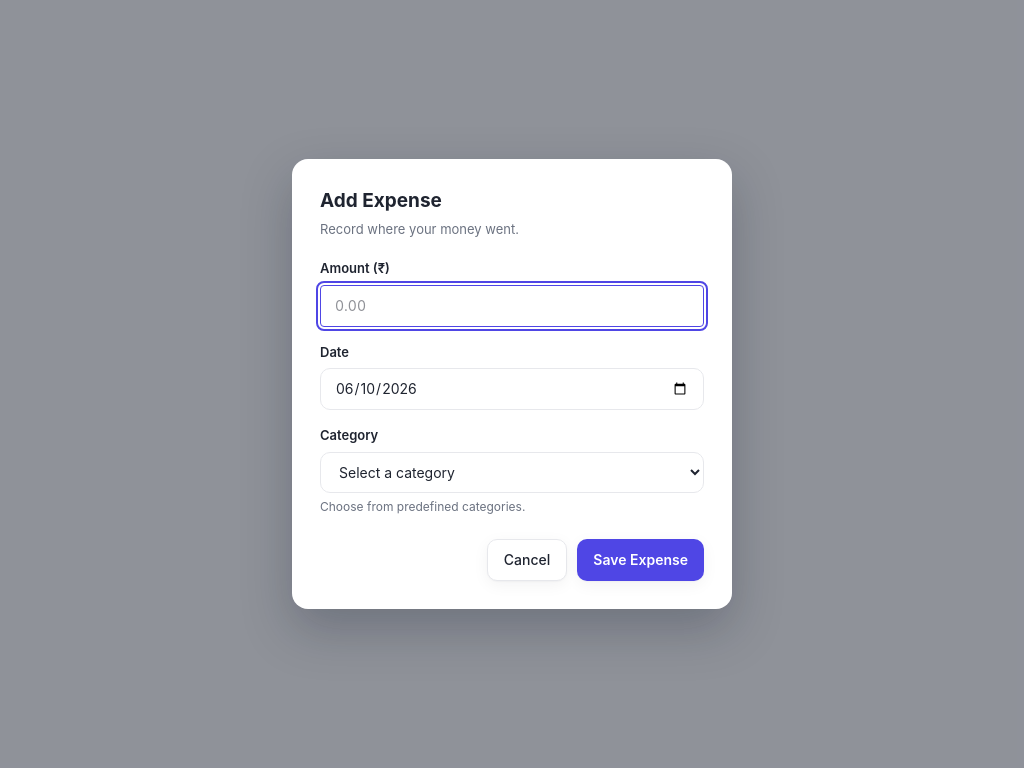
Scenario: ExpenseModal (P7-2) › rejects an amount with more than two decimals
The width and height of the screenshot is (1024, 768).
In the field labelled "Amount (₹)": (512, 306) 320,285 -> 704,327, type "12.345"
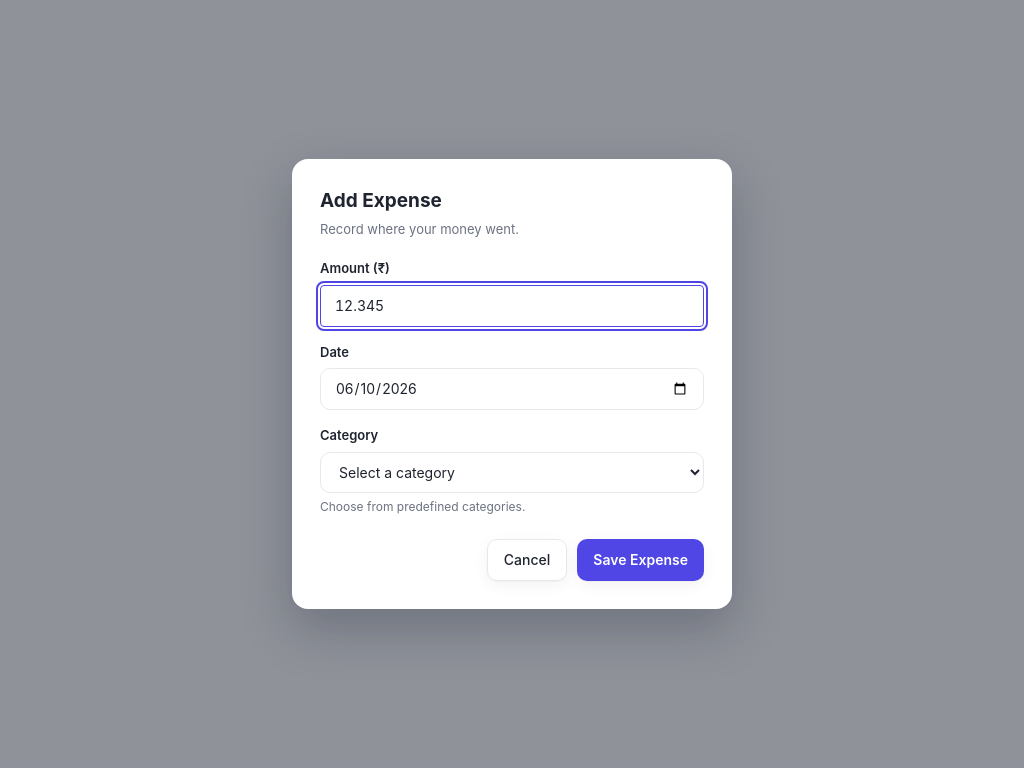
Select "Food" in the dropdown labelled "Category": (512, 472) 320,452 -> 704,493
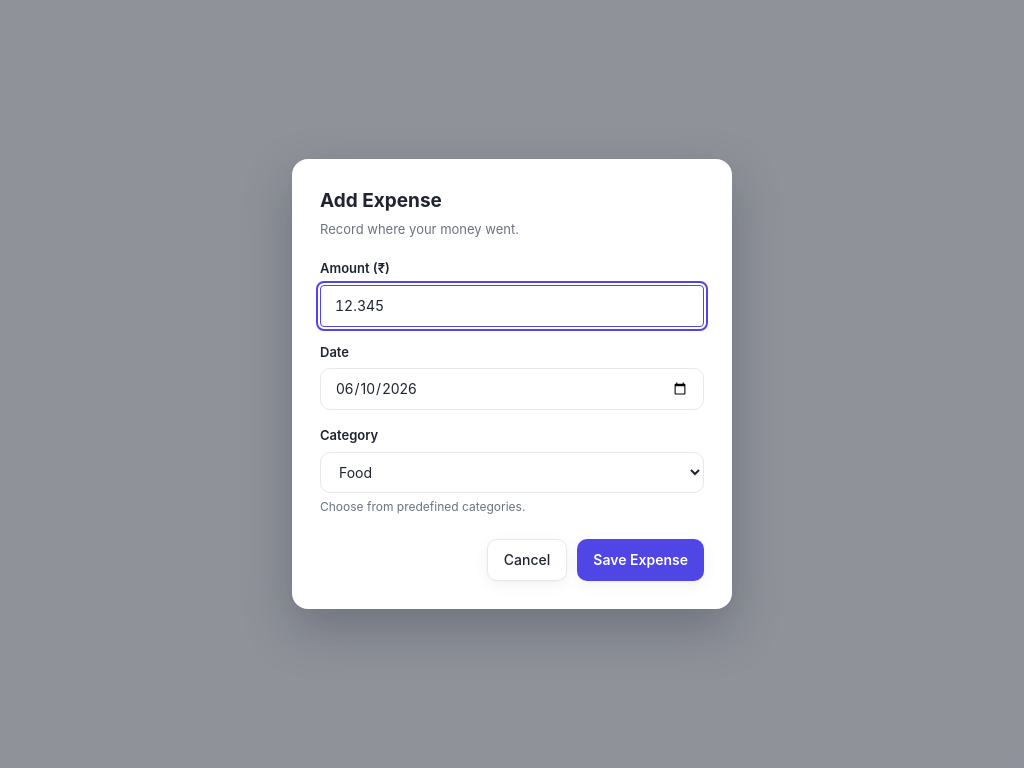
Click the button "Save Expense": (641, 560) 577,539 -> 704,581
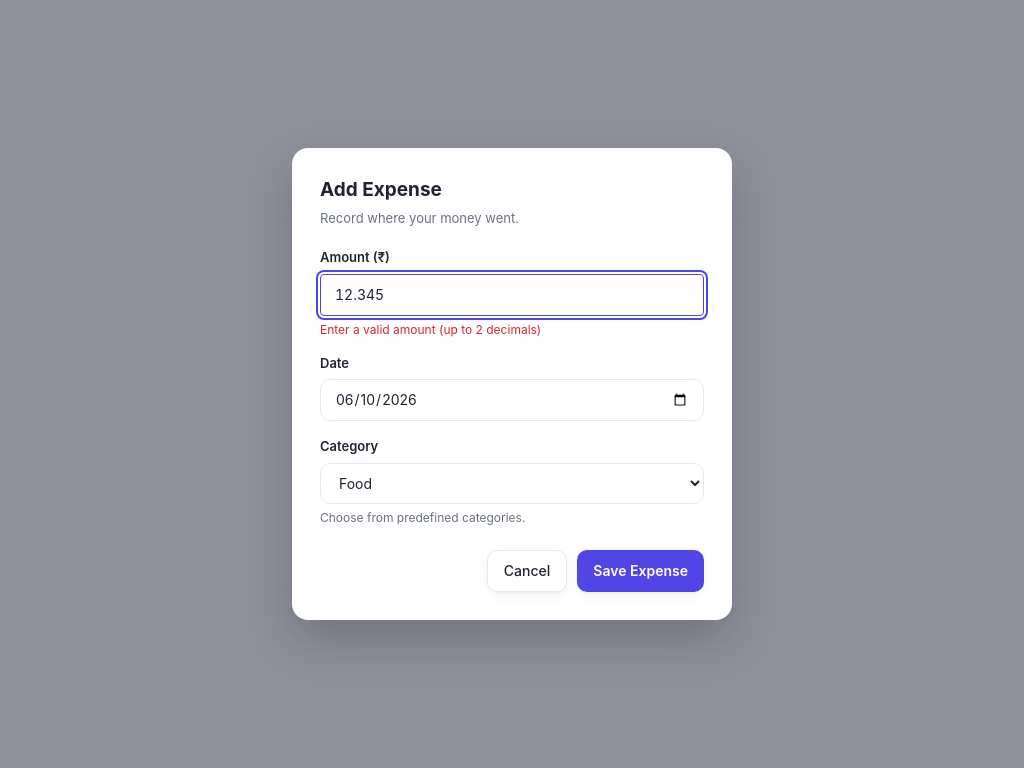
expect the text "Enter a valid amount (up to 2 decimals)" is shown: met, box 320,322 -> 541,337
